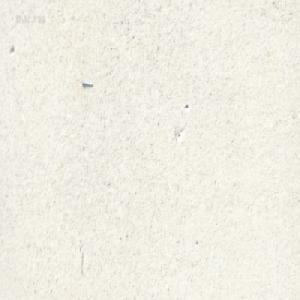Nail: (80, 78, 93, 86)
